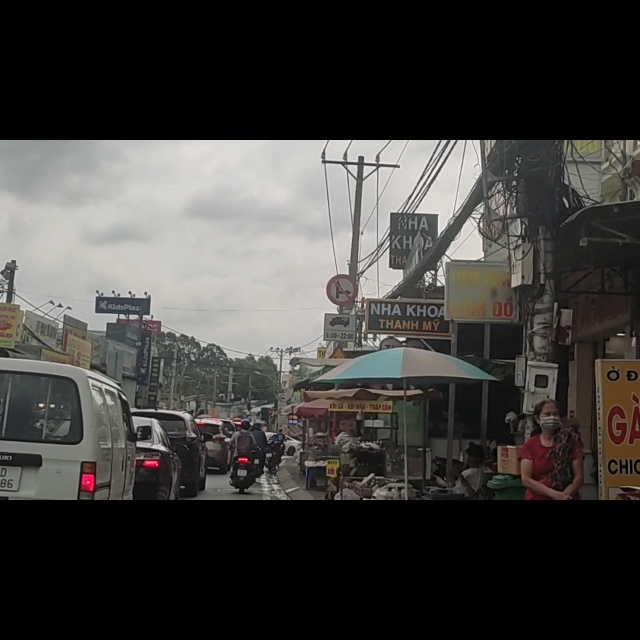bien_cam: (325, 237, 357, 290), (324, 307, 357, 356)
